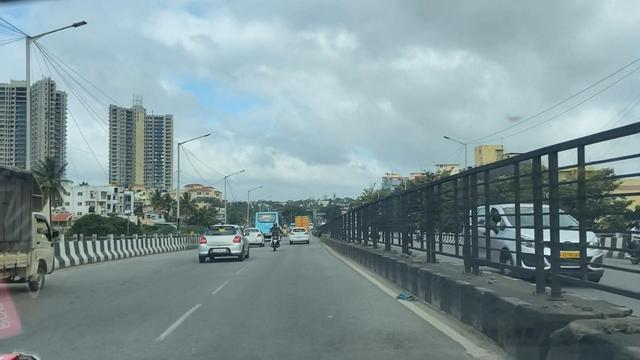HMV: (0, 158, 92, 305), (251, 203, 286, 253)
LMV: (200, 211, 253, 268), (264, 208, 291, 262), (288, 220, 320, 252), (244, 228, 268, 249)
